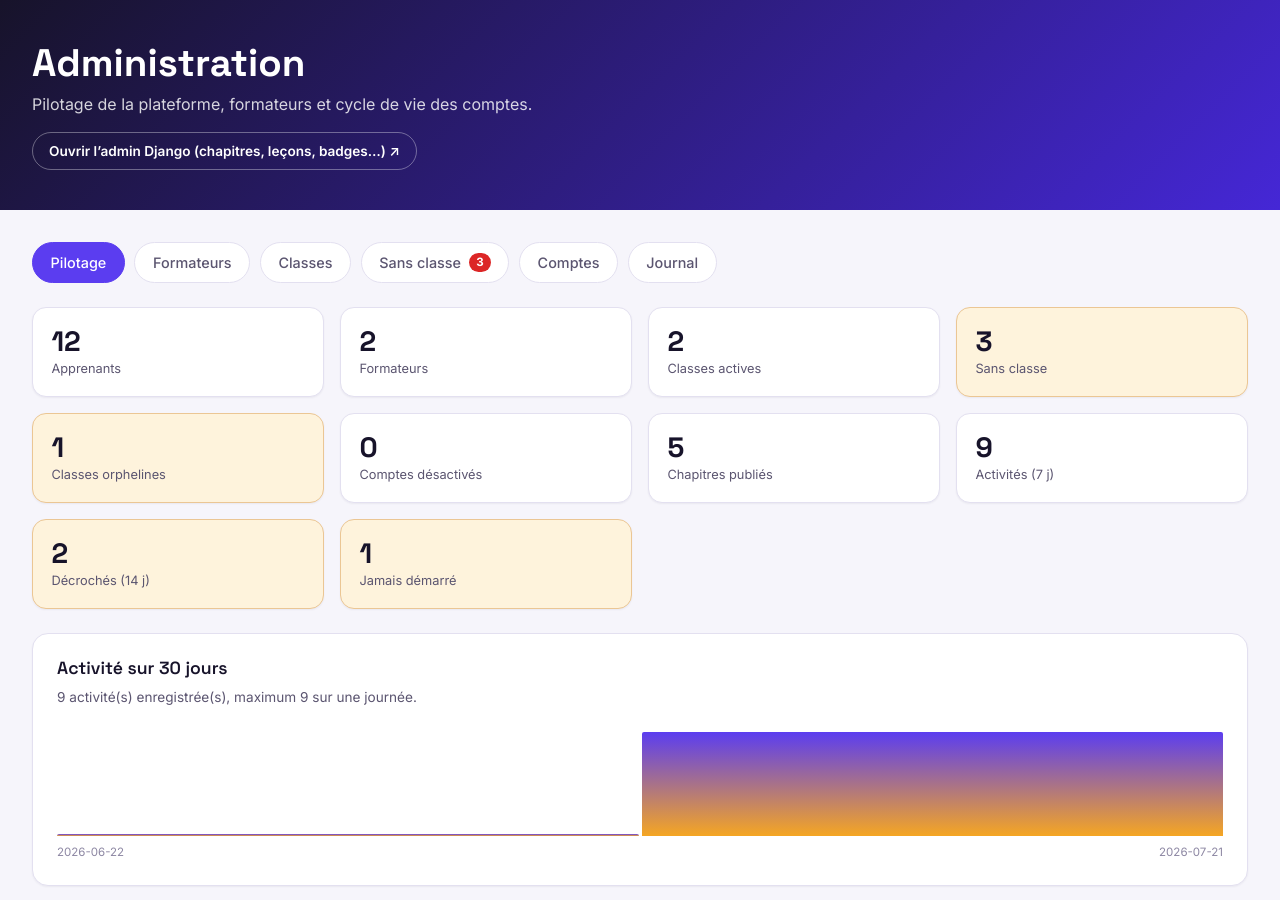
Scenario: AdminSpace › affiche l’identité figée dans le journal, pas l’identité courante
This screenshot has width=1280, height=900.
Click the button "Journal": (672,263) [628, 242, 717, 283]
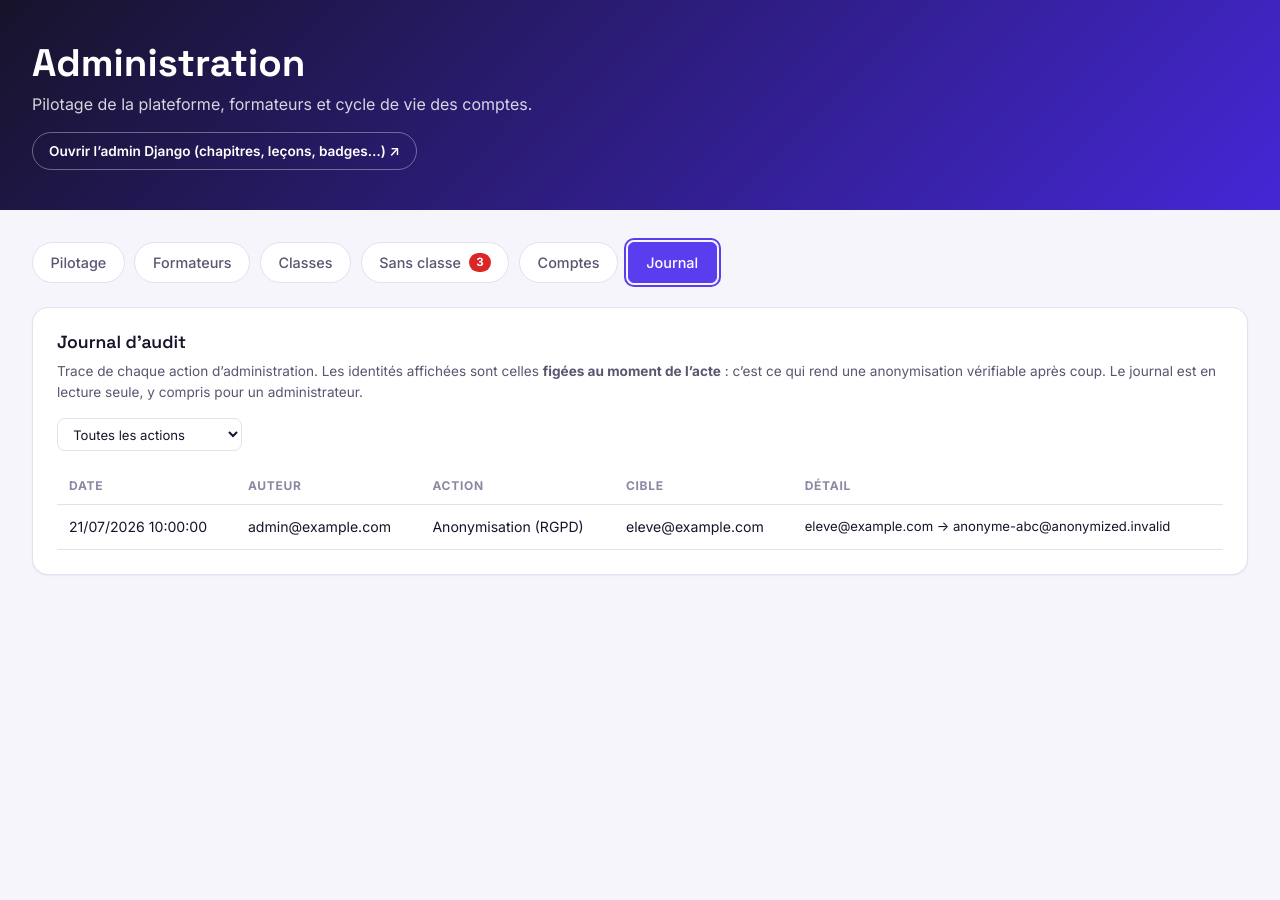
Check: the text "eleve@example.com" is shown, box [614, 505, 793, 549]
Check: the text "eleve@example.com → anonyme-abc@anonymized.invalid" is shown, box [793, 505, 1223, 549]
